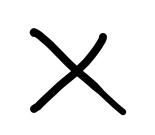mult: (28, 27, 126, 116)
